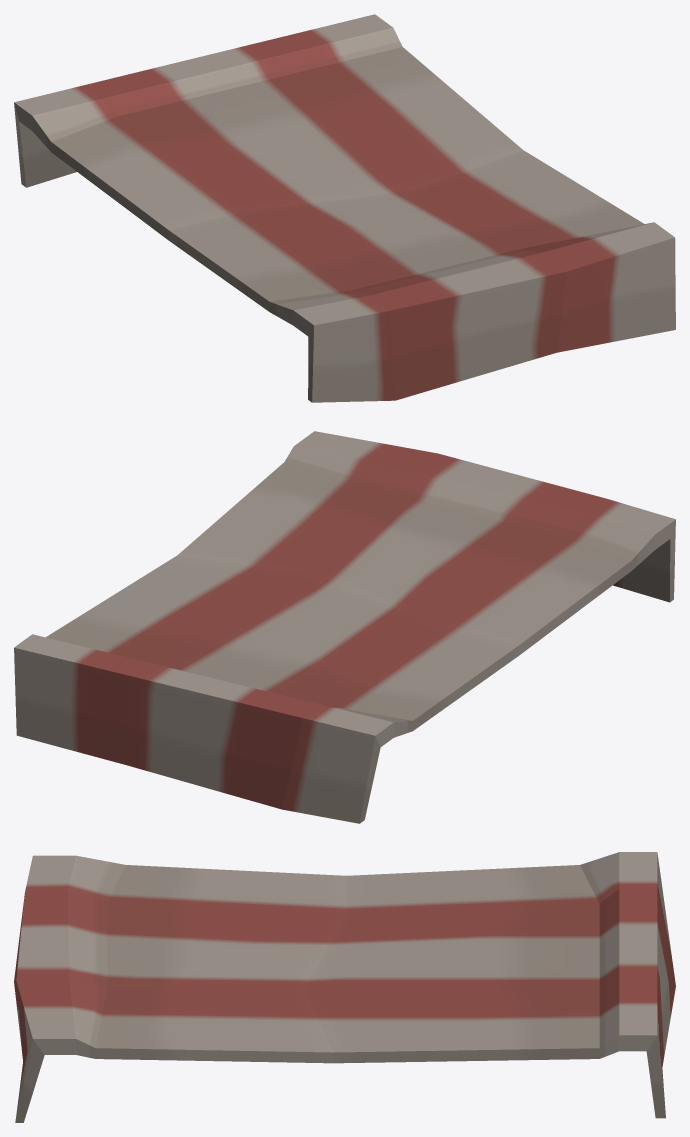
Rendered from SM_Bld_Village_ClothCover_Cloth_04.fbx.
3 renders of one model, top to bottom at view 1: azimuth 30°, elevation 25°; view 2: azimuth 150°, elevation 25°; view 3: azimuth 270°, elevation 25°, orthographic. The views are drawn at different scales.
Visible parts, largest first — view 1: SM_Bld_Village_ClothCover_Cloth_04; view 2: SM_Bld_Village_ClothCover_Cloth_04; view 3: SM_Bld_Village_ClothCover_Cloth_04.
Part boxes in pixels (x1=…): SM_Bld_Village_ClothCover_Cloth_04: x1=14, y1=14, x2=675, y2=402; SM_Bld_Village_ClothCover_Cloth_04: x1=14, y1=431, x2=675, y2=823; SM_Bld_Village_ClothCover_Cloth_04: x1=14, y1=852, x2=675, y2=1122.
Bounding box in the file's own units: 177 × 42.02 × 270.
